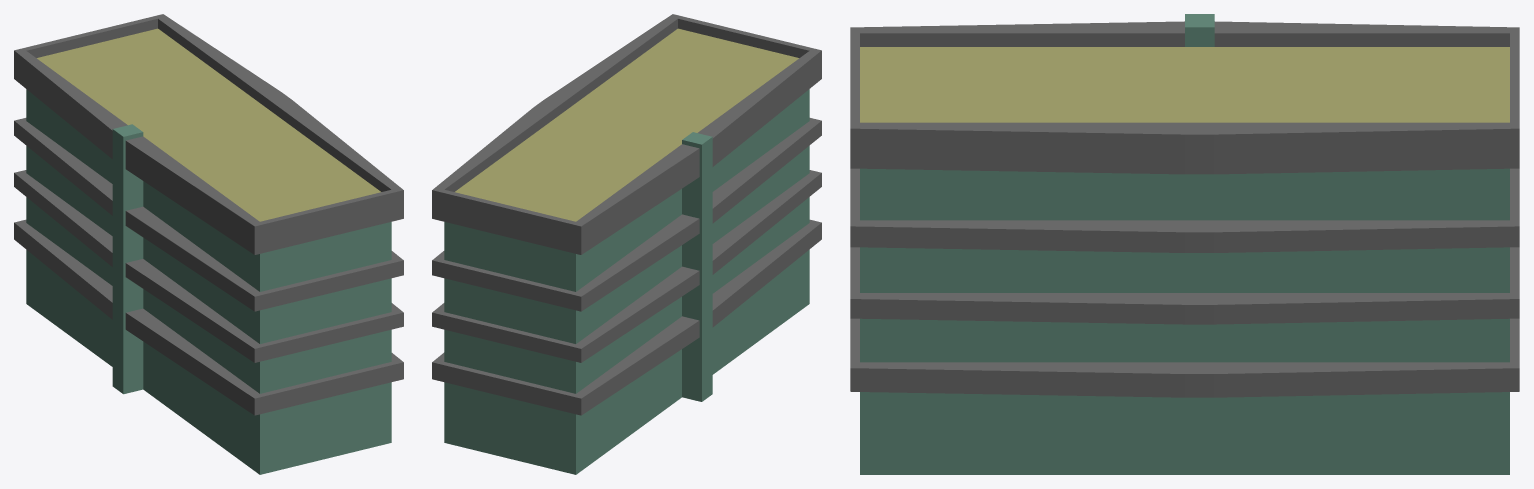
File: building3.fbx
3 renders of one model, left to right at view 1: azimuth 30°, elevation 25°; view 2: azimuth 150°, elevation 25°; view 3: azimuth 270°, elevation 25°, orthographic. The views are drawn at different scales.
Visible parts, largest first — view 1: building4; view 2: building4; view 3: building4.
Part boxes in pixels (left/top/right/bottom): building4: left=14, top=14, right=403, bottom=474; building4: left=432, top=14, right=821, bottom=474; building4: left=850, top=14, right=1519, bottom=474.
Bounding box in the file's own units: 2139 × 3116 × 5279.
